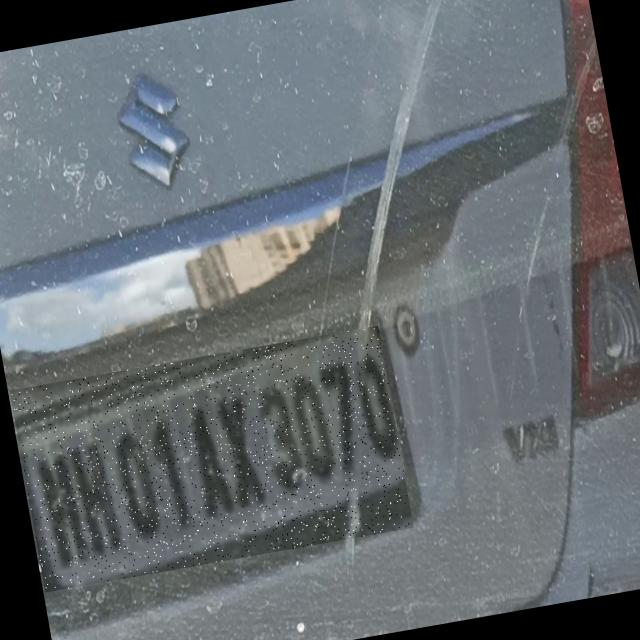Plate: (11, 326, 415, 593)
